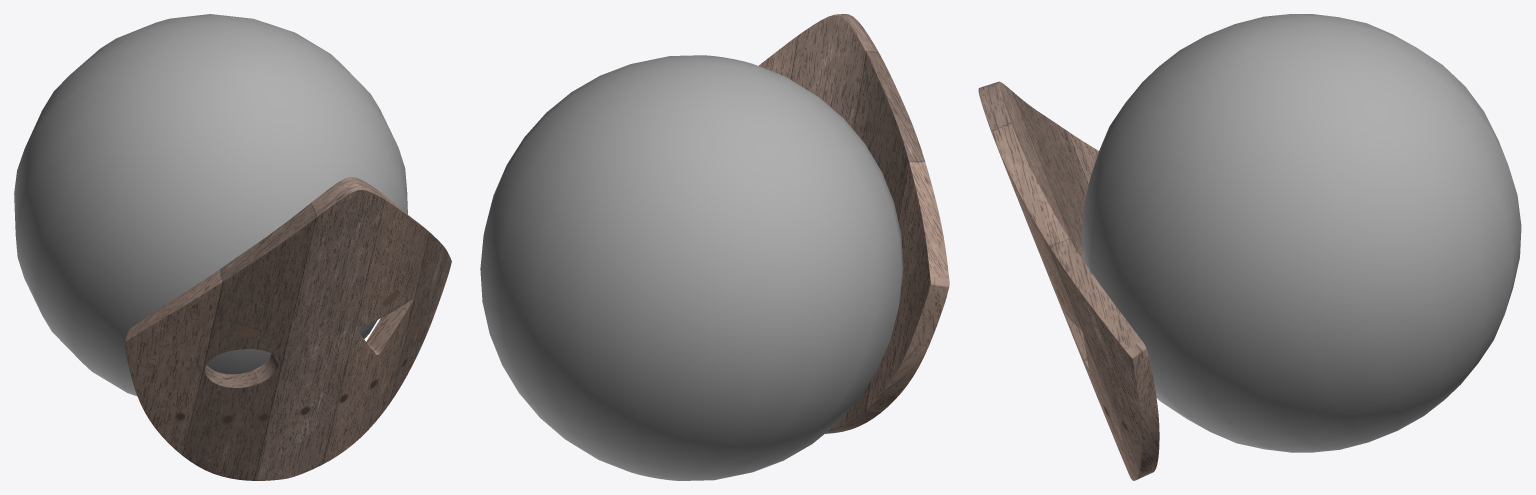
Rendered from Spirit_Attack.fbx.
3 renders of one model, left to right at view 1: azimuth 30°, elevation 25°; view 2: azimuth 150°, elevation 25°; view 3: azimuth 270°, elevation 25°, orthographic. The views are drawn at different scales.
Visible parts, largest first — view 1: outerSphere, baseMask; view 2: outerSphere, baseMask; view 3: outerSphere, baseMask.
Part boxes in pixels (x1=…): outerSphere: x1=14, y1=14, x2=407, y2=395; baseMask: x1=124, y1=177, x2=451, y2=480; outerSphere: x1=480, y1=55, x2=903, y2=480; baseMask: x1=758, y1=14, x2=949, y2=433; outerSphere: x1=1082, y1=14, x2=1521, y2=452; baseMask: x1=978, y1=81, x2=1159, y2=480.
Bounding box in the file's own units: 20 × 21.52 × 24.69.
Materials: 2 (1 with a texture image).
